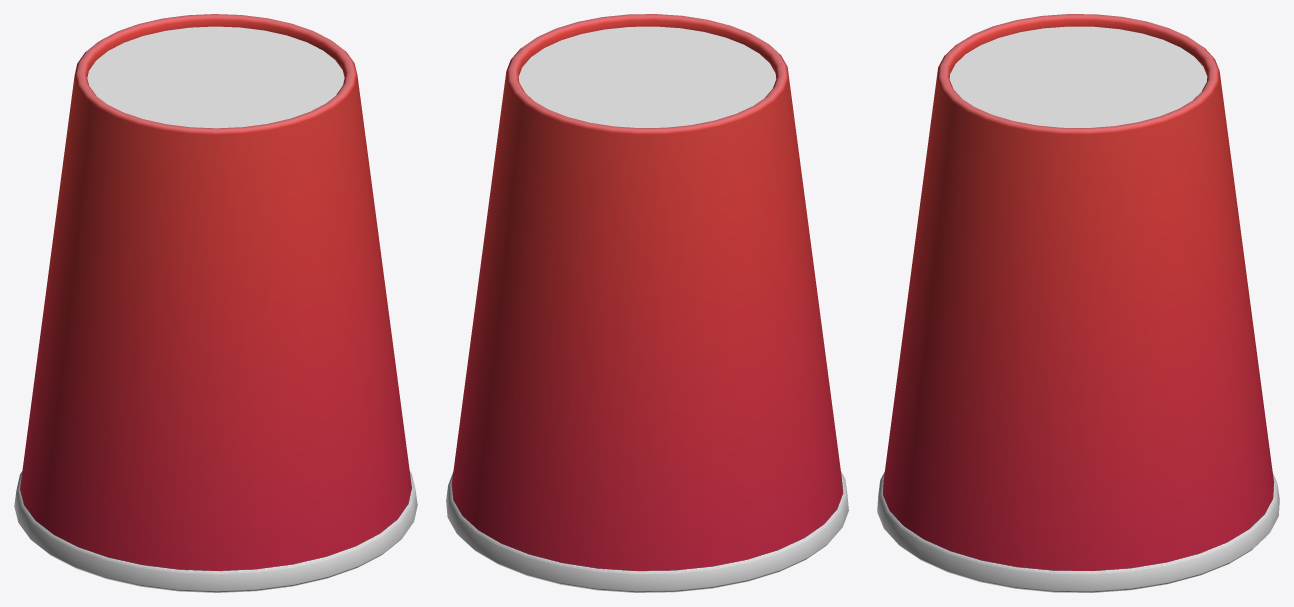
File: Paper_Glass_01.glb
3 renders of one model, left to right at view 1: azimuth 30°, elevation 25°; view 2: azimuth 150°, elevation 25°; view 3: azimuth 270°, elevation 25°, orthographic.
Parts seen in each view (by area): view 1: Paper_Glass_01; view 2: Paper_Glass_01; view 3: Paper_Glass_01.
Part boxes in pixels (x1=…): Paper_Glass_01: x1=14, y1=14, x2=417, y2=592; Paper_Glass_01: x1=446, y1=14, x2=848, y2=592; Paper_Glass_01: x1=877, y1=14, x2=1279, y2=592.
Bounding box in the file's own units: 0.1007 × 0.1207 × 0.1007.
Materials: 1 (1 with a texture image).
